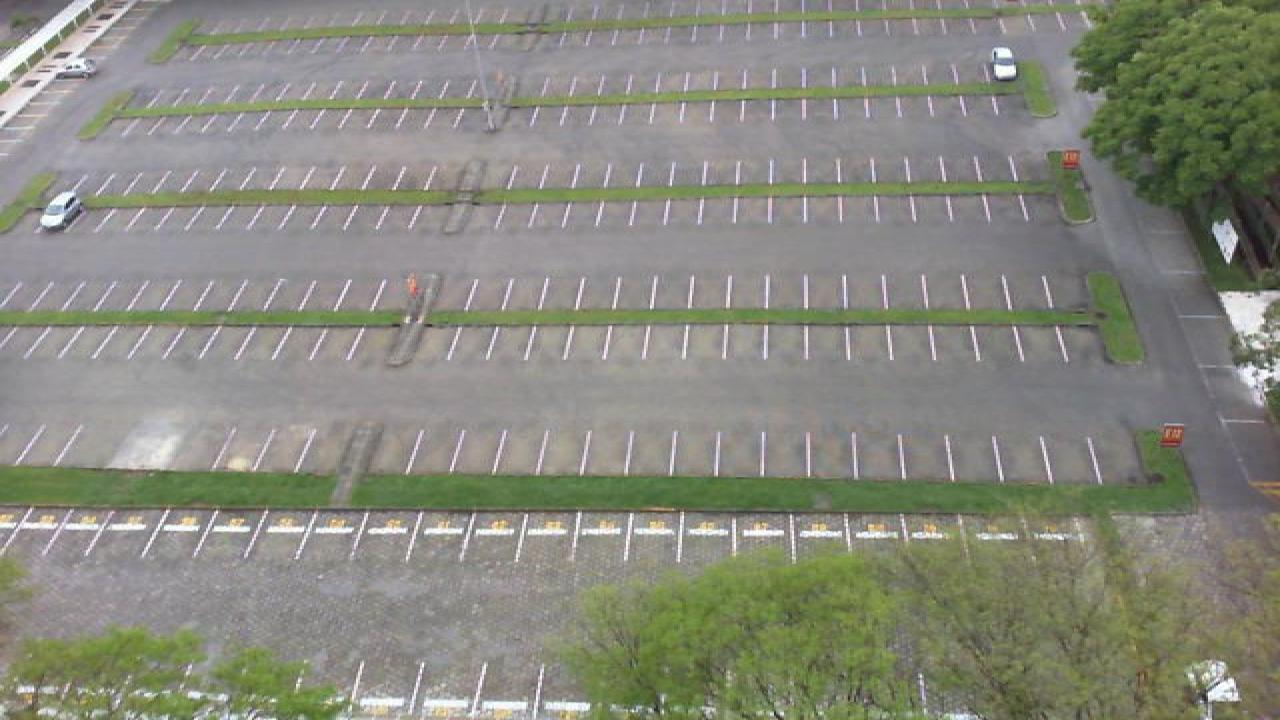Car: (38, 189, 84, 232), (988, 45, 1020, 81), (56, 55, 96, 78)
